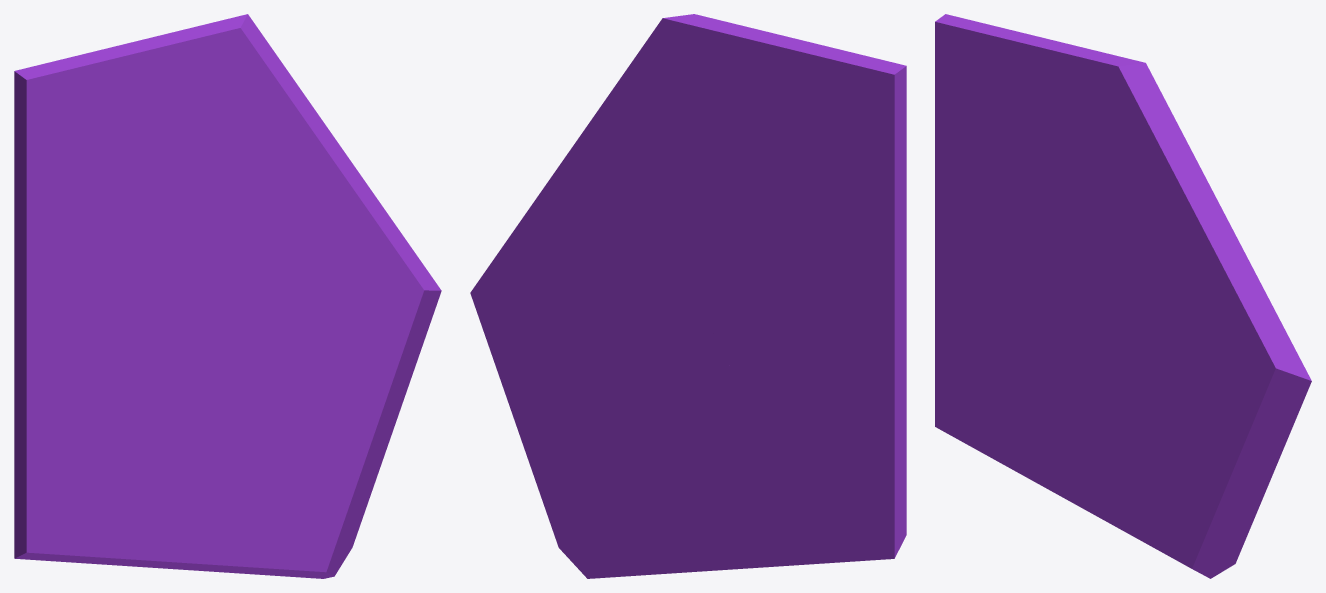
File: Window_8_2_chunks.fbx
3 views of the same model, side by side, from view 1: azimuth 30°, elevation 25°; view 2: azimuth 150°, elevation 25°; view 3: azimuth 330°, elevation 25° (orthographic). The views are drawn at different scales.
Parts seen in each view (by area): view 1: Window_8_2_3, Window_8_2_2, Window_8_2_1, Window_8_2_0; view 2: Window_8_2_3, Window_8_2_2, Window_8_2_1, Window_8_2_0; view 3: Window_8_2_3, Window_8_2_2, Window_8_2_1, Window_8_2_0.
Part boxes in pixels (left/top/right/bottom): Window_8_2_3: left=14, top=23, right=290, bottom=472; Window_8_2_2: left=14, top=353, right=383, bottom=578; Window_8_2_1: left=256, top=97, right=441, bottom=456; Window_8_2_0: left=175, top=14, right=305, bottom=143; Window_8_2_3: left=684, top=14, right=906, bottom=455; Window_8_2_2: left=527, top=344, right=906, bottom=578; Window_8_2_1: left=470, top=100, right=661, bottom=457; Window_8_2_0: left=605, top=15, right=736, bottom=356; Window_8_2_3: left=935, top=14, right=1160, bottom=358; Window_8_2_2: left=935, top=351, right=1262, bottom=578; Window_8_2_1: left=1132, top=158, right=1311, bottom=498; Window_8_2_0: left=1082, top=47, right=1195, bottom=186.
Bounding box in the file's own units: 544 × 710 × 27.2.
